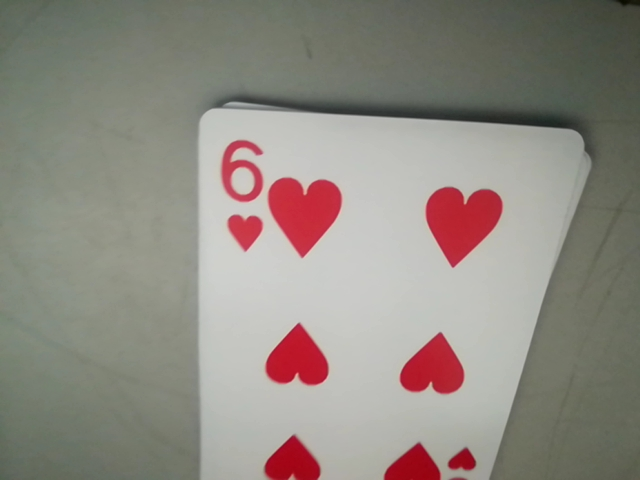hx 6: (207, 122, 277, 256)
